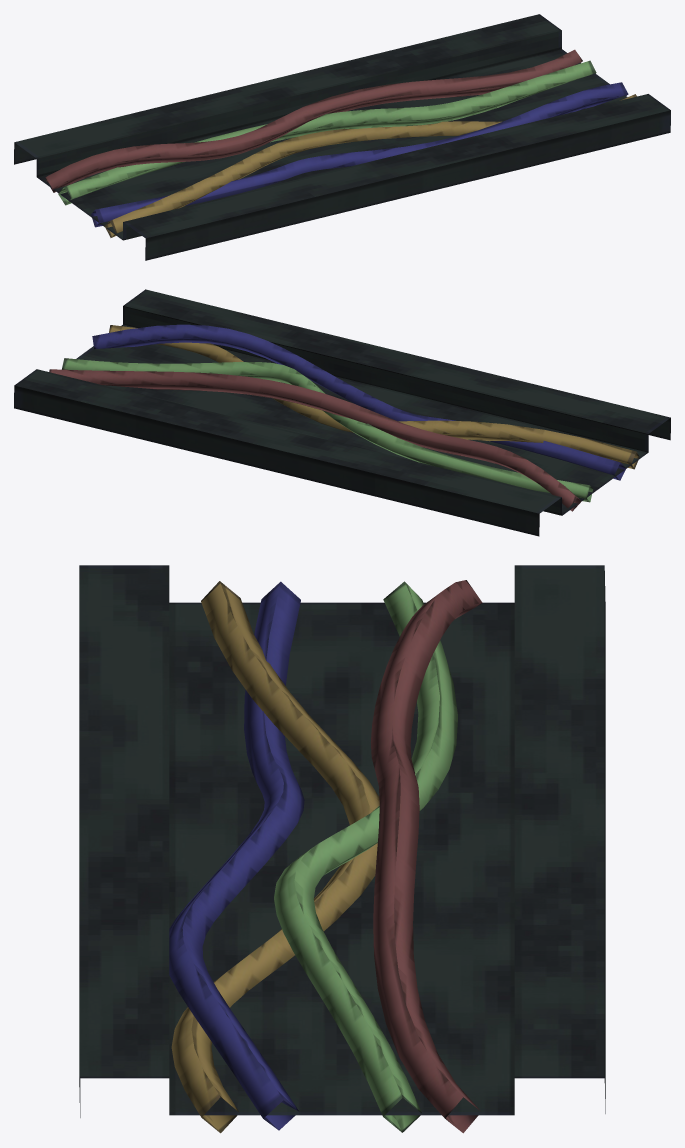
Rendered from wiresStraight.fbx.
3 views of the same model, one above another, from view 1: azimuth 30°, elevation 25°; view 2: azimuth 150°, elevation 25°; view 3: azimuth 270°, elevation 25° (orthographic). The views are drawn at different scales.
Visible parts, largest first — view 1: wireStraight; view 2: wireStraight; view 3: wireStraight.
Part boxes in pixels (box(x1,y1,x2,y2)): wireStraight: box(14, 14, 670, 260); wireStraight: box(14, 289, 670, 536); wireStraight: box(79, 565, 605, 1133).
Size of the model in its own units: 0.8677 by 2.03 by 0.1689.
